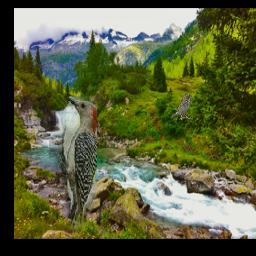Sparrow: (170, 93, 192, 120)
Woodpecker: (49, 97, 97, 237)
